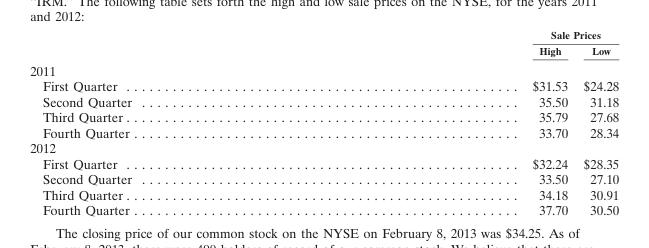table: (29, 28, 618, 217)
table column: (29, 28, 331, 217), (331, 28, 575, 217), (575, 28, 618, 217)
table column header: (29, 28, 618, 59)
table projected row header: (29, 59, 618, 77), (29, 139, 618, 155)
table row: (29, 59, 618, 77), (29, 42, 618, 59), (29, 77, 618, 93), (29, 108, 618, 124), (29, 139, 618, 155), (29, 170, 618, 186), (29, 201, 618, 217), (29, 93, 618, 108), (29, 124, 618, 139), (29, 155, 618, 170), (29, 186, 618, 201), (29, 28, 618, 42)
table spanning cell: (331, 28, 618, 42)
